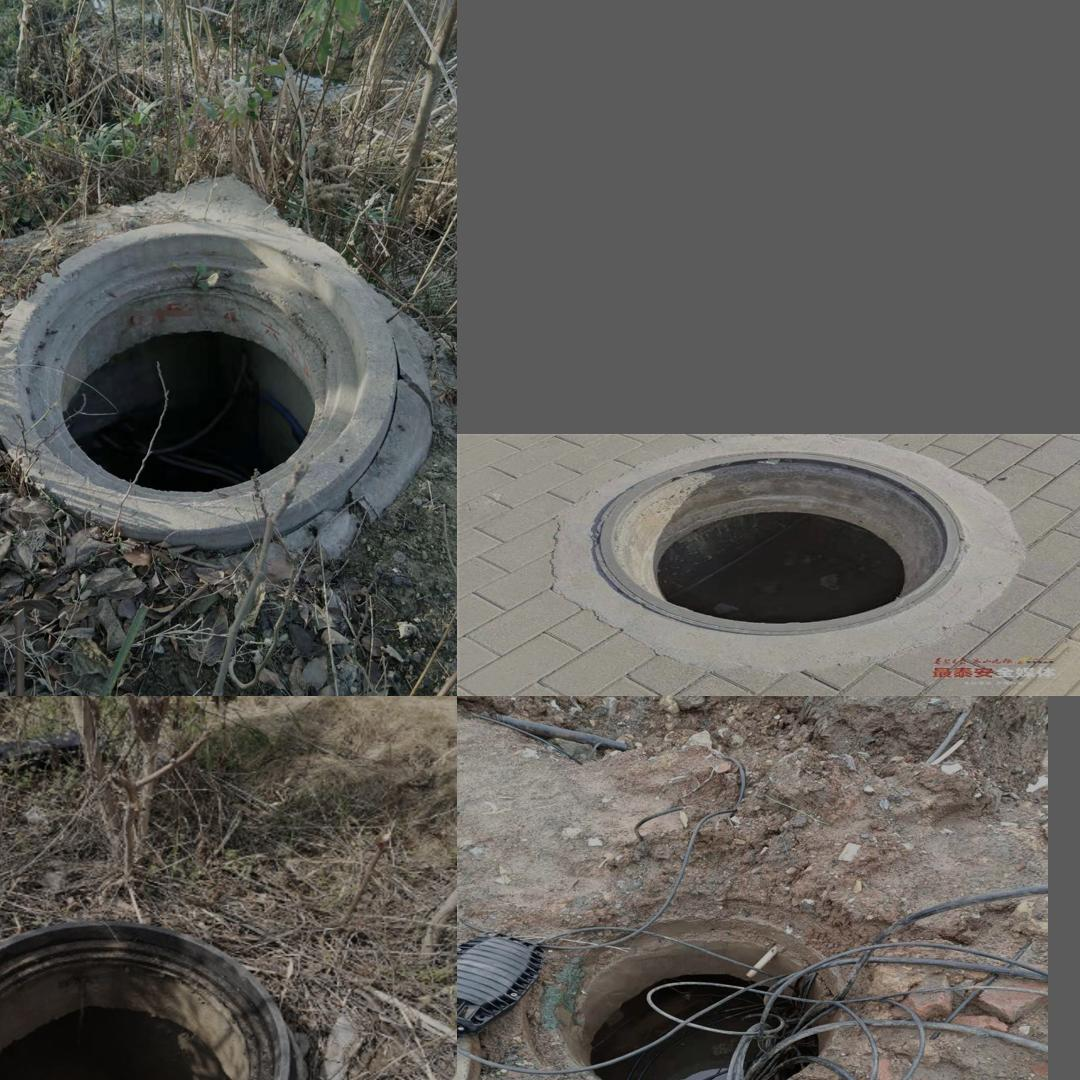lose: (0, 219, 398, 553), (562, 440, 1022, 656), (513, 906, 861, 1080), (0, 918, 291, 1080)
